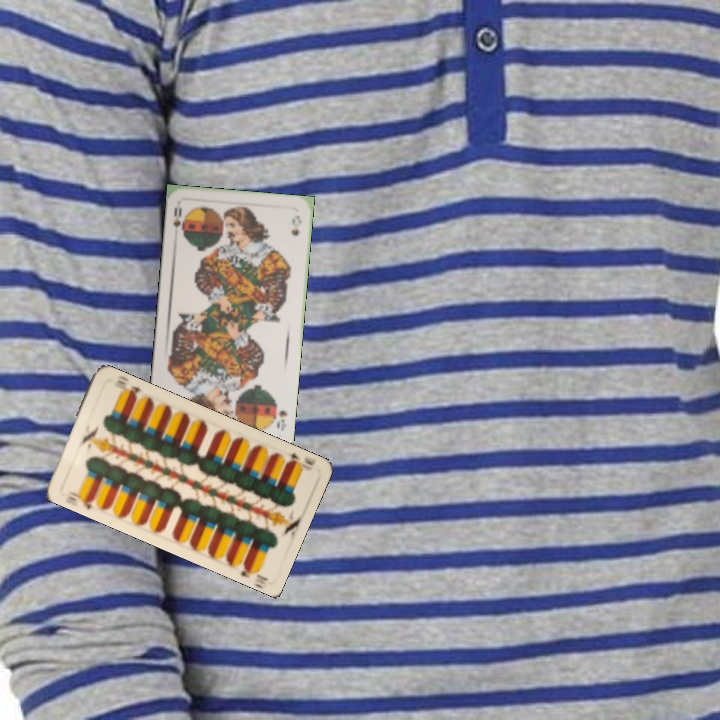E10: (62, 487, 97, 512), (280, 447, 318, 470)
SO: (169, 200, 187, 239), (271, 399, 290, 433)
